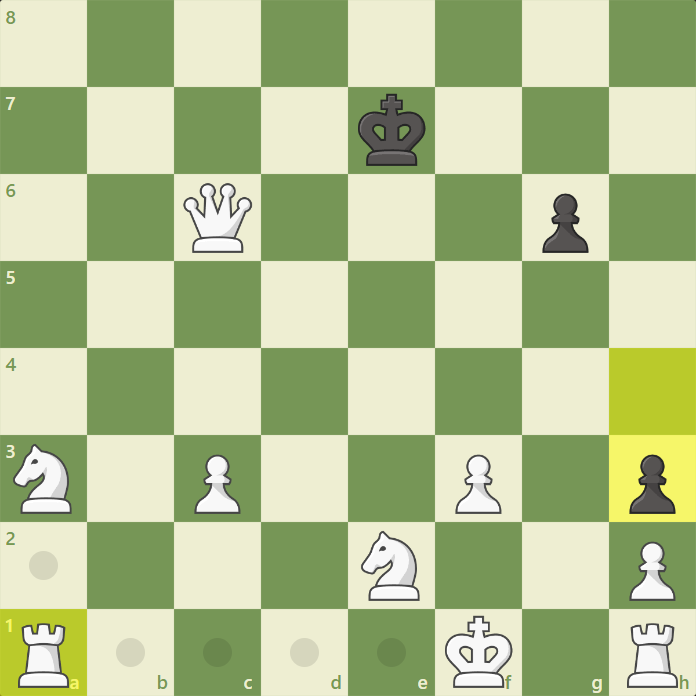K: (442, 614, 515, 690)
N: (11, 442, 75, 517), (359, 529, 422, 604)
P: (451, 453, 504, 516), (627, 539, 677, 603), (193, 452, 241, 517)
Q: (182, 181, 255, 255)
R: (623, 621, 682, 690), (14, 621, 72, 691)
k: (356, 92, 428, 168)
p: (540, 191, 592, 256), (627, 453, 679, 517)
